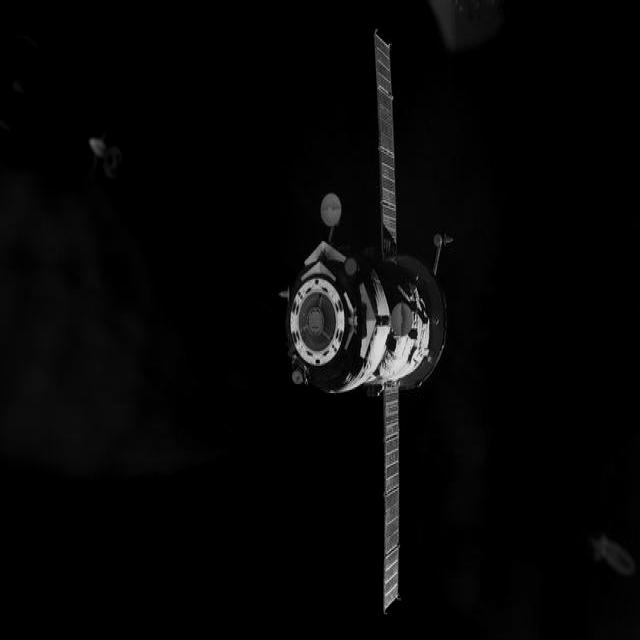satellite: (285, 32, 446, 609)
